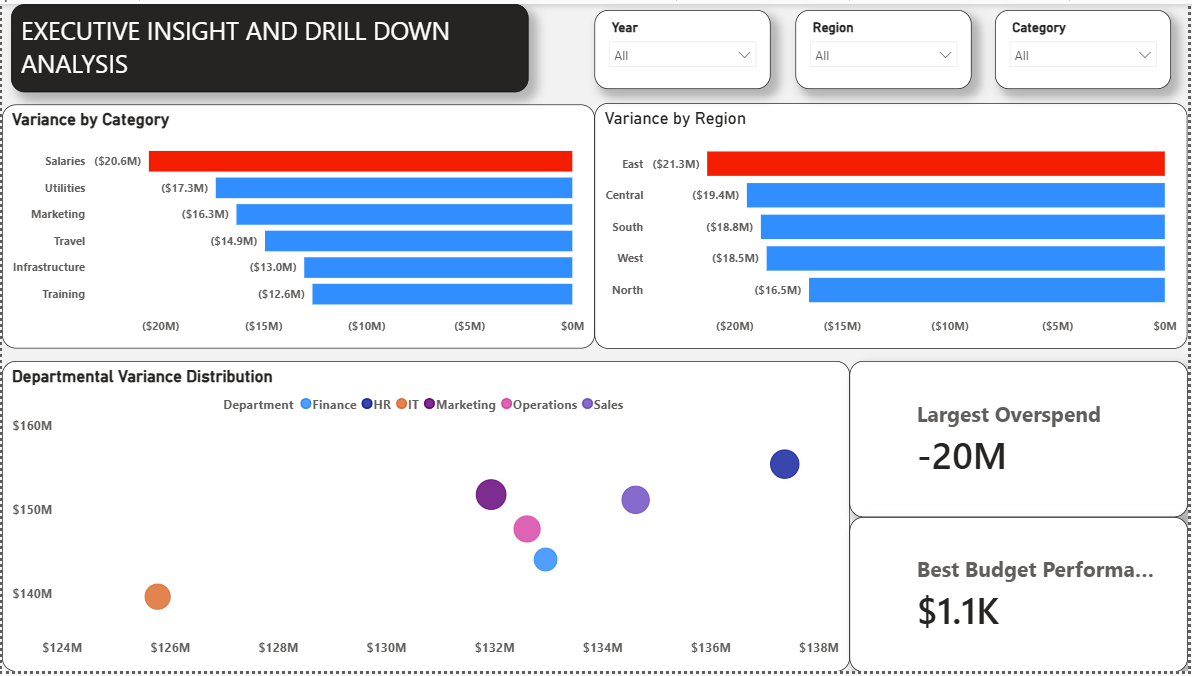

This screenshot's page, from the dashboard's own definition file:
{"tool":"powerbi","page":{"name":"executive insight and drill down analysis","canvas":[1280,720],"ordinal":2},"visuals":[{"type":"textbox","box":[10,0,558.3,95],"z":0},{"type":"clusteredBarChart","fields":{"Category":["Finance.Category"],"Y":["Finance.Variance"]},"box":[0,108.3,640,263.3],"z":1},{"type":"clusteredBarChart","fields":{"Category":["Finance.Region"],"Y":["Finance.Variance"]},"box":[640,106.7,640,265],"z":2},{"type":"scatterChart","title":"Departmental Variance Distribution","fields":{"X":["Finance.Total Budget"],"Y":["Finance.Total Actual"],"Size":["Finance.Variance Size"],"Series":["Finance.Department"]},"box":[0,385,915,335],"z":3},{"type":"cardVisual","fields":{"Data":["Finance.Largest Overspend"]},"box":[915,385,365,168.3],"z":4},{"type":"cardVisual","fields":{"Data":["Finance.Best Budget Performance"]},"box":[915,553,365,167],"z":5},{"type":"slicer","fields":{"Values":["Date Table.Year"]},"box":[640,6.7,190,85],"z":6},{"type":"slicer","fields":{"Values":["Finance.Region"]},"box":[855.8,6.7,190,85],"z":7},{"type":"slicer","fields":{"Values":["Finance.Category"]},"box":[1071.7,6.7,190,85],"z":8}]}

Visuals, with their boxes in screenshot pixels (x1, y1, x2, y2), scaled from the page's 1280x720 canvas onto the 1192x676 screenshot:
textbox: {"left": 9, "top": 0, "right": 529, "bottom": 89}
clusteredBarChart - Finance.Category x Finance.Variance: {"left": 0, "top": 102, "right": 596, "bottom": 349}
clusteredBarChart - Finance.Region x Finance.Variance: {"left": 596, "top": 100, "right": 1191, "bottom": 349}
"Departmental Variance Distribution" scatterChart: {"left": 0, "top": 361, "right": 852, "bottom": 675}
cardVisual - Finance.Largest Overspend: {"left": 852, "top": 361, "right": 1191, "bottom": 519}
cardVisual - Finance.Best Budget Performance: {"left": 852, "top": 519, "right": 1191, "bottom": 675}
slicer - Date Table.Year: {"left": 596, "top": 6, "right": 773, "bottom": 86}
slicer - Finance.Region: {"left": 797, "top": 6, "right": 974, "bottom": 86}
slicer - Finance.Category: {"left": 998, "top": 6, "right": 1175, "bottom": 86}
